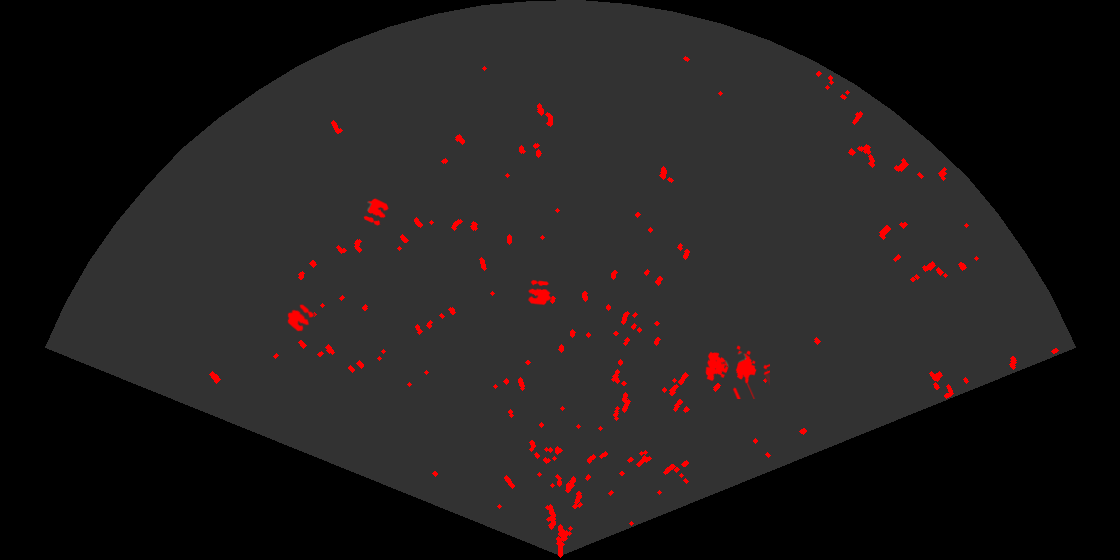ball: (286, 303, 316, 333), (362, 197, 391, 227), (526, 278, 552, 307)
cage: (704, 344, 770, 399)
